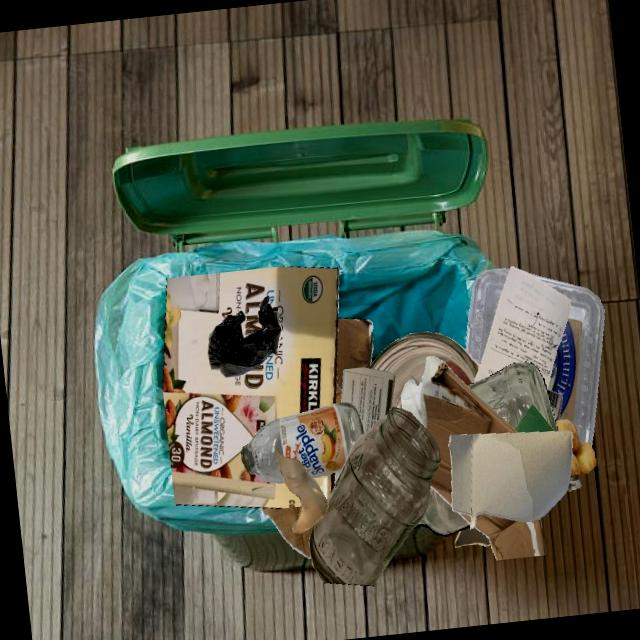biowaste: (555, 419, 596, 474)
cardboard: (163, 266, 339, 508), (448, 433, 579, 527), (448, 430, 572, 529), (269, 403, 336, 508), (336, 317, 372, 390), (264, 507, 311, 558), (454, 526, 490, 546), (546, 388, 562, 420)
glass: (309, 406, 440, 585), (241, 402, 364, 483), (368, 331, 479, 410), (467, 361, 558, 431), (274, 446, 328, 534), (413, 487, 470, 535)
paper: (474, 265, 571, 389), (341, 367, 395, 433), (514, 404, 554, 432)
plastic: (529, 273, 604, 447), (207, 296, 282, 377), (465, 267, 510, 365)
